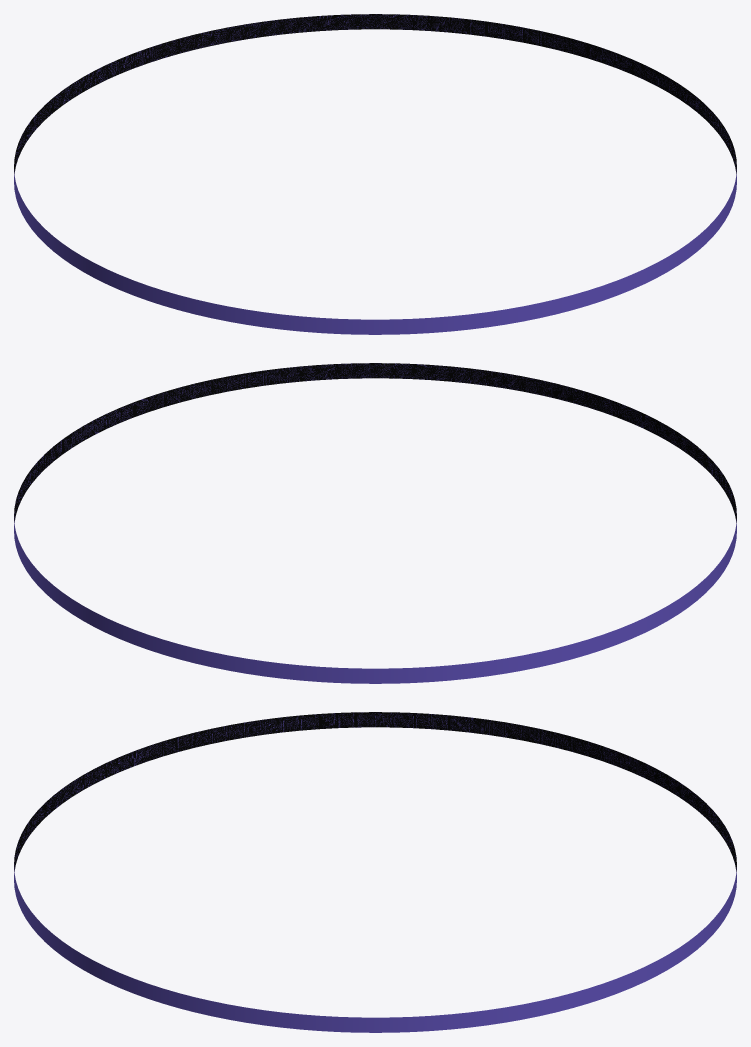
File: original-4.obj
3 views of the same model, one above another, from view 1: azimuth 30°, elevation 25°; view 2: azimuth 150°, elevation 25°; view 3: azimuth 270°, elevation 25° (orthographic).
Parts seen in each view (by area): view 1: Obj_000004_1/Obj_000004/mesh4/mesh4-geometry#mesh4-geometry; view 2: Obj_000004_1/Obj_000004/mesh4/mesh4-geometry#mesh4-geometry; view 3: Obj_000004_1/Obj_000004/mesh4/mesh4-geometry#mesh4-geometry.
Boxes of the visible parts, x1,y1,x2,y2 form: Obj_000004_1/Obj_000004/mesh4/mesh4-geometry#mesh4-geometry: [14, 14, 736, 334]; Obj_000004_1/Obj_000004/mesh4/mesh4-geometry#mesh4-geometry: [14, 363, 736, 683]; Obj_000004_1/Obj_000004/mesh4/mesh4-geometry#mesh4-geometry: [14, 712, 736, 1032].
Size of the model in its own units: 1.01 by 0.0236 by 1.01.
